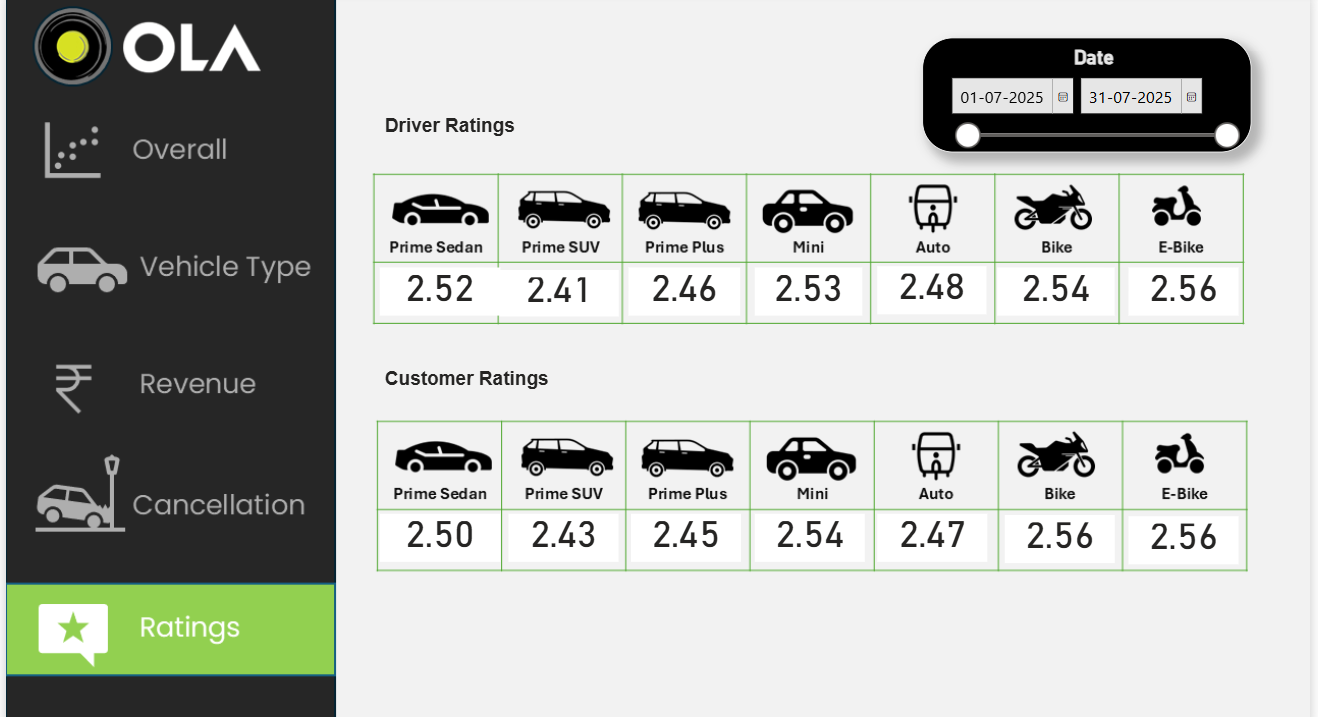

Layout of this report page (visuals, bound fields, positions):
{"tool":"powerbi","page":{"name":"ratings","canvas":[1280,720],"ordinal":4},"visuals":[{"type":"actionButton","box":[0,222.1,323.9,92],"z":0},{"type":"actionButton","box":[0,347.2,323.9,92],"z":1000},{"type":"actionButton","box":[0,439.3,323.9,106.7],"z":2000},{"type":"actionButton","box":[0,106.7,323.9,93.3],"z":3000},{"type":"card","fields":{"Values":["Avg(hyderabad_booking_data.Driver Ratings)"]},"box":[366.3,268,118.3,47],"z":4000},{"type":"card","fields":{"Values":["Avg(hyderabad_booking_data.Driver Ratings)"]},"box":[484.6,269.4,116.9,45.6],"z":5000},{"type":"card","fields":{"Values":["Avg(hyderabad_booking_data.Driver Ratings)"]},"box":[611.5,268,109.8,47],"z":6000},{"type":"card","fields":{"Values":["Avg(hyderabad_booking_data.Driver Ratings)"]},"box":[735.5,268,105.5,47],"z":7000},{"type":"card","fields":{"Values":["Avg(hyderabad_booking_data.Driver Ratings)"]},"box":[855.2,266.5,106.9,47],"z":8000},{"type":"card","fields":{"Values":["Avg(hyderabad_booking_data.Driver Ratings)"]},"box":[973.5,268,115.5,47],"z":9000},{"type":"card","fields":{"Values":["Avg(hyderabad_booking_data.Driver Ratings)"]},"box":[1101.8,268,108.3,47],"z":10000},{"type":"card","fields":{"Values":["Avg(hyderabad_booking_data.Customer Rating)"]},"box":[366.3,508.9,118.3,47],"z":11000},{"type":"card","fields":{"Values":["Avg(hyderabad_booking_data.Customer Rating)"]},"box":[493.2,508.9,108.3,47],"z":12000},{"type":"card","fields":{"Values":["Avg(hyderabad_booking_data.Customer Rating)"]},"box":[612.9,508.9,108.3,47],"z":13000},{"type":"card","fields":{"Values":["Avg(hyderabad_booking_data.Customer Rating)"]},"box":[735.5,508.9,108.3,47],"z":14000},{"type":"card","fields":{"Values":["Avg(hyderabad_booking_data.Customer Rating)"]},"box":[855.2,508.9,108.3,47],"z":15000},{"type":"card","fields":{"Values":["Avg(hyderabad_booking_data.Customer Rating)"]},"box":[980.7,510.3,108.3,47],"z":16000},{"type":"card","fields":{"Values":["Avg(hyderabad_booking_data.Customer Rating)"]},"box":[1101.8,511.7,108.3,47],"z":17000},{"type":"textbox","box":[366.3,112.6,149.7,41.3],"z":18000},{"type":"textbox","box":[366.3,360.6,235.2,44.2],"z":19000},{"type":"slicer","title":"Date","fields":{"Values":["hyderabad_booking_data.Date"]},"box":[899.4,41.3,323.6,112.6],"z":20000}]}

Visuals, with their boxes on the page's 1280x720 design canvas (x1, y1, x2, y2). These are canvas units, not pixel positions in the 1318x717 screenshot, which may show the page scaled, cropped or inside an application window:
actionButton: x1=0 y1=222 x2=324 y2=314
actionButton: x1=0 y1=347 x2=324 y2=439
actionButton: x1=0 y1=439 x2=324 y2=546
actionButton: x1=0 y1=107 x2=324 y2=200
card - Avg(hyderabad_booking_data.Driver Ratings): x1=366 y1=268 x2=485 y2=315
card - Avg(hyderabad_booking_data.Driver Ratings): x1=485 y1=269 x2=602 y2=315
card - Avg(hyderabad_booking_data.Driver Ratings): x1=612 y1=268 x2=721 y2=315
card - Avg(hyderabad_booking_data.Driver Ratings): x1=736 y1=268 x2=841 y2=315
card - Avg(hyderabad_booking_data.Driver Ratings): x1=855 y1=266 x2=962 y2=314
card - Avg(hyderabad_booking_data.Driver Ratings): x1=974 y1=268 x2=1089 y2=315
card - Avg(hyderabad_booking_data.Driver Ratings): x1=1102 y1=268 x2=1210 y2=315
card - Avg(hyderabad_booking_data.Customer Rating): x1=366 y1=509 x2=485 y2=556
card - Avg(hyderabad_booking_data.Customer Rating): x1=493 y1=509 x2=602 y2=556
card - Avg(hyderabad_booking_data.Customer Rating): x1=613 y1=509 x2=721 y2=556
card - Avg(hyderabad_booking_data.Customer Rating): x1=736 y1=509 x2=844 y2=556
card - Avg(hyderabad_booking_data.Customer Rating): x1=855 y1=509 x2=964 y2=556
card - Avg(hyderabad_booking_data.Customer Rating): x1=981 y1=510 x2=1089 y2=557
card - Avg(hyderabad_booking_data.Customer Rating): x1=1102 y1=512 x2=1210 y2=559
textbox: x1=366 y1=113 x2=516 y2=154
textbox: x1=366 y1=361 x2=602 y2=405
"Date" slicer: x1=899 y1=41 x2=1223 y2=154
